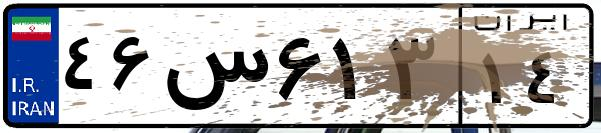1: (330, 28, 385, 110), (475, 38, 525, 113)
3: (385, 28, 445, 110)
4: (57, 26, 110, 100), (525, 38, 570, 115)
6: (270, 28, 330, 110), (110, 28, 158, 98)
س: (158, 20, 270, 120)
